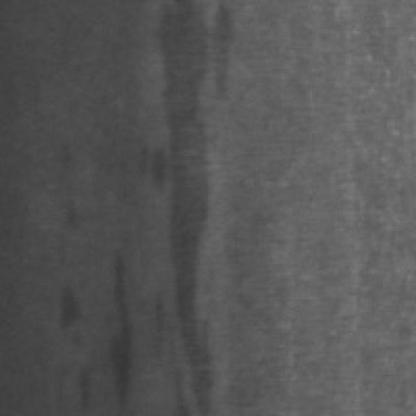inclusion: (152, 0, 252, 410), (96, 237, 148, 401), (56, 279, 90, 339)
